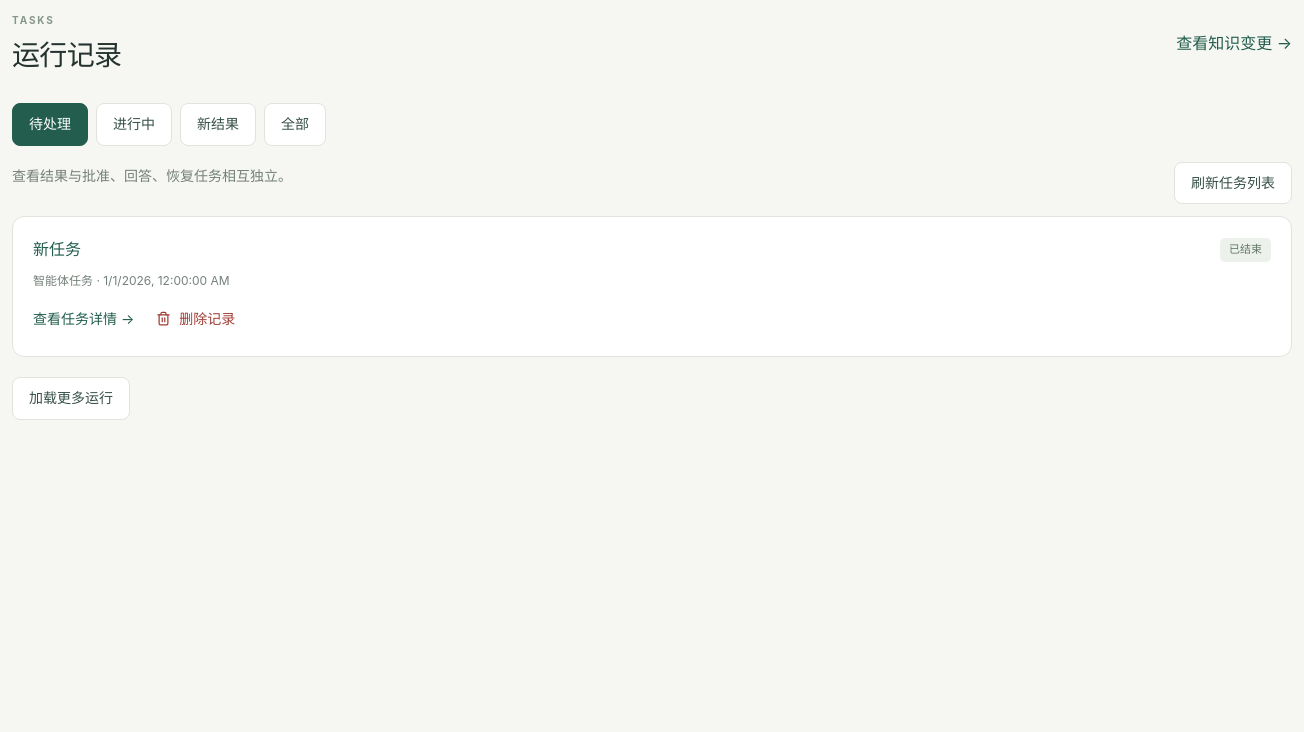
Test case: loads older runs with a cursor and retains already displayed entries
expect the link "新任务" is shown: met, box [33,239,81,259]
Click the button "加载更多运行". click: (71, 398)
box: [12,377,130,420]
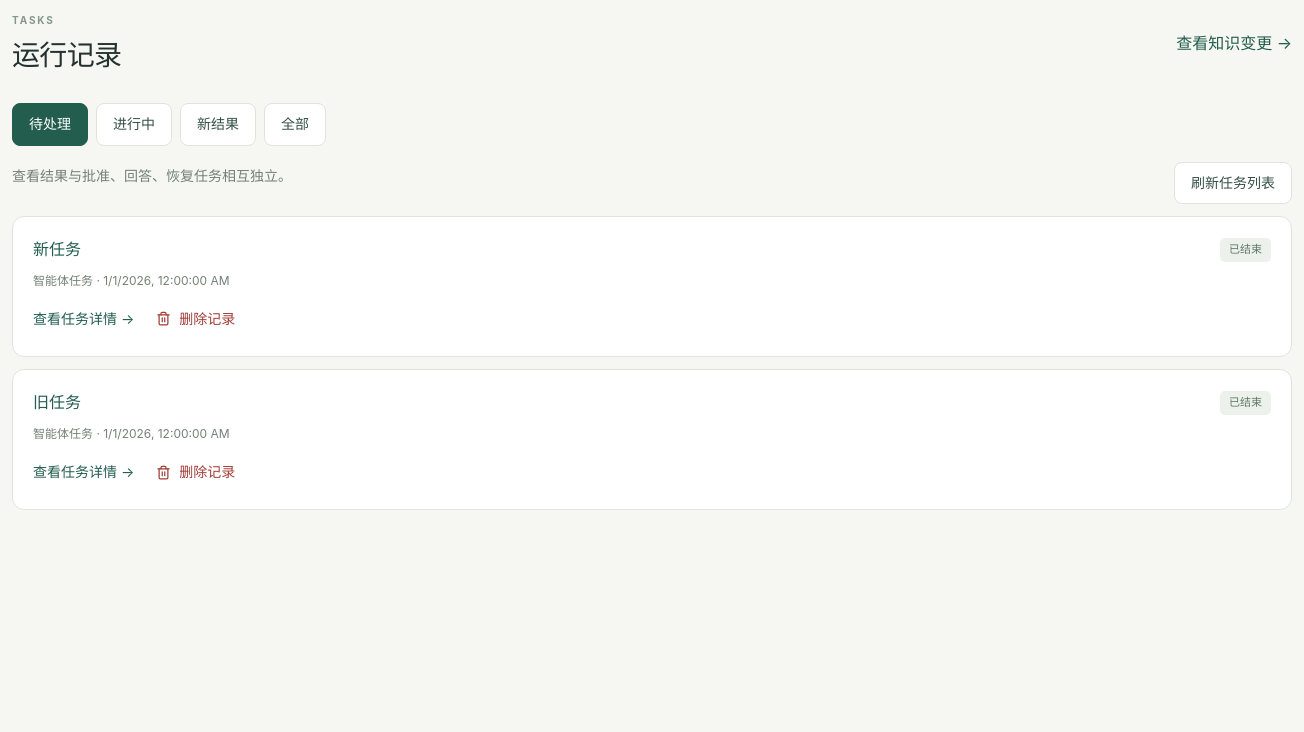
expect the link "新任务" is shown: met, box [33,239,81,259]
expect the link "旧任务" is shown: met, box [33,392,81,412]
